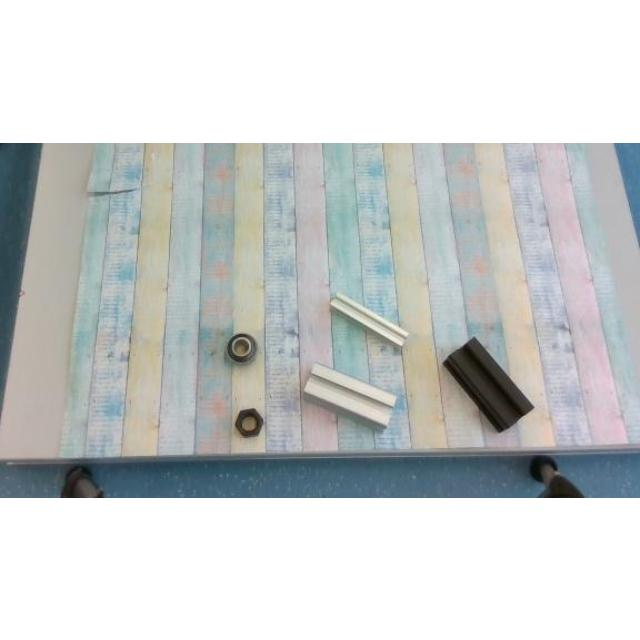Bearing2: (226, 332, 256, 362)
F20_20_G: (330, 292, 408, 346)
M20: (234, 408, 264, 437)
S40_40_B: (443, 337, 533, 431)
S40_40_G: (303, 362, 395, 426)
